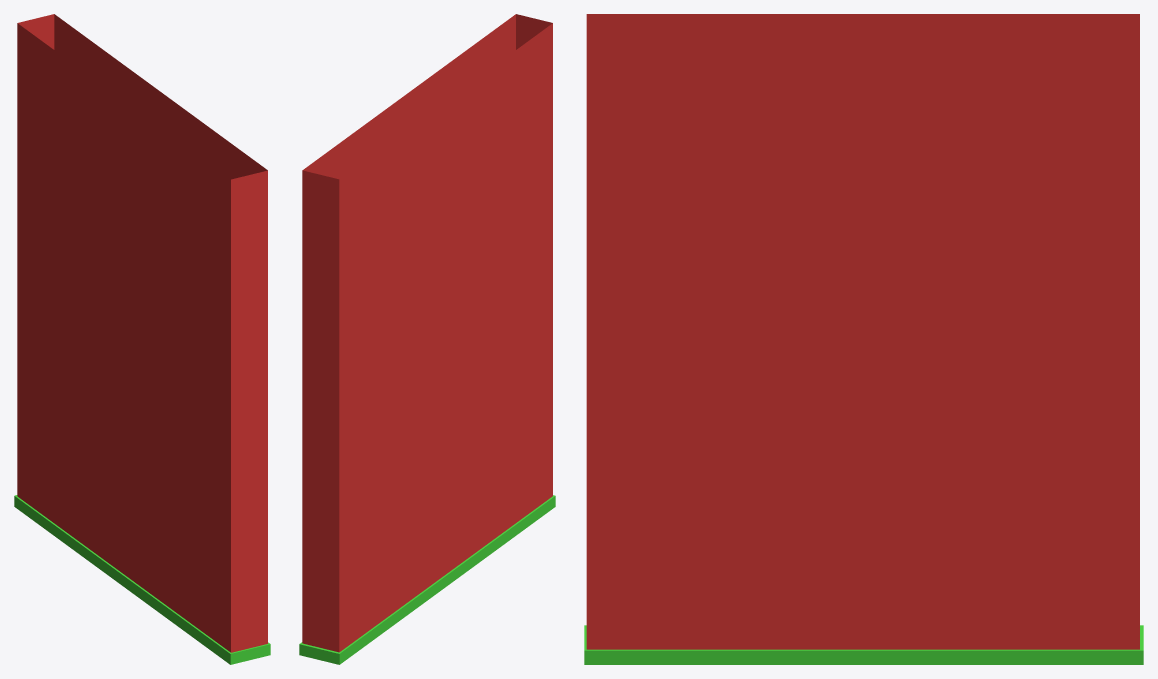
The model's file is LockerrromsmallerWalls.fbx.
The picture shows the model from 3 angles, left to right: view 1: azimuth 30°, elevation 25°; view 2: azimuth 150°, elevation 25°; view 3: azimuth 270°, elevation 25°; orthographic projection. The views are drawn at different scales.
Parts seen in each view (by area): view 1: Lockerroom-WallSmaler; view 2: Lockerroom-WallSmaler; view 3: Lockerroom-WallSmaler.
Boxes of the visible parts, <box> form: Lockerroom-WallSmaler: <box>14,14,270,664</box>; Lockerroom-WallSmaler: <box>299,14,555,664</box>; Lockerroom-WallSmaler: <box>584,14,1143,664</box>.
Bounding box in the file's own units: 21.75 × 250 × 202.
